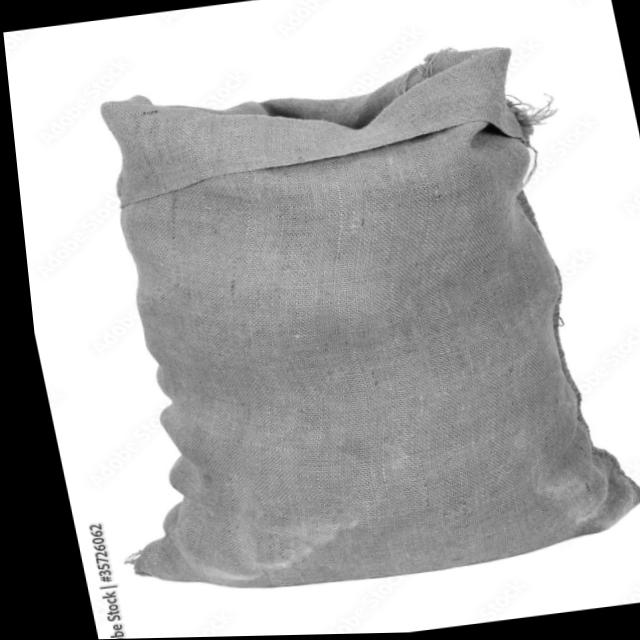sack: (26, 36, 640, 611)
